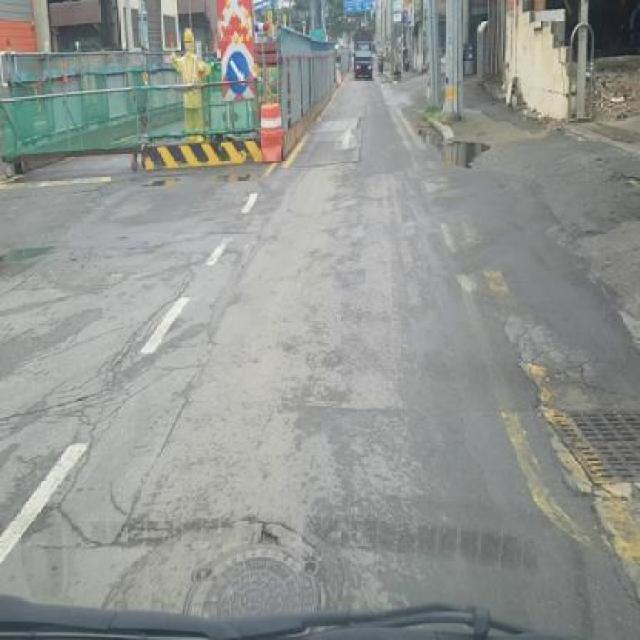Manhole: (184, 546, 324, 634), (540, 404, 640, 501)
Pothole: (589, 151, 640, 194), (236, 512, 281, 548)
